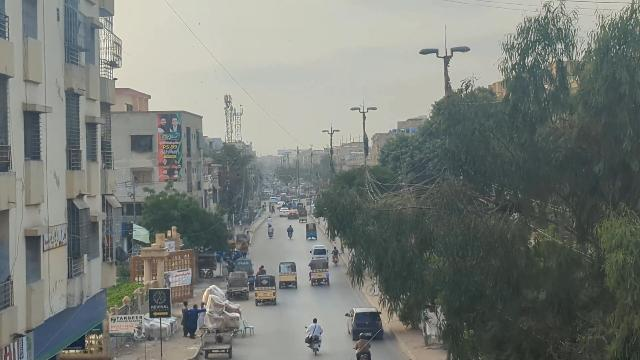Bike: (308, 336, 321, 356)
Car: (344, 307, 386, 342)
Cart: (199, 330, 236, 359)
Person: (187, 303, 200, 339), (178, 299, 190, 336), (355, 331, 373, 355), (303, 316, 323, 337), (196, 300, 205, 330)
Rickshaw: (254, 274, 278, 308), (307, 259, 332, 288), (277, 259, 299, 290)
Suzuki: (225, 271, 250, 300)
